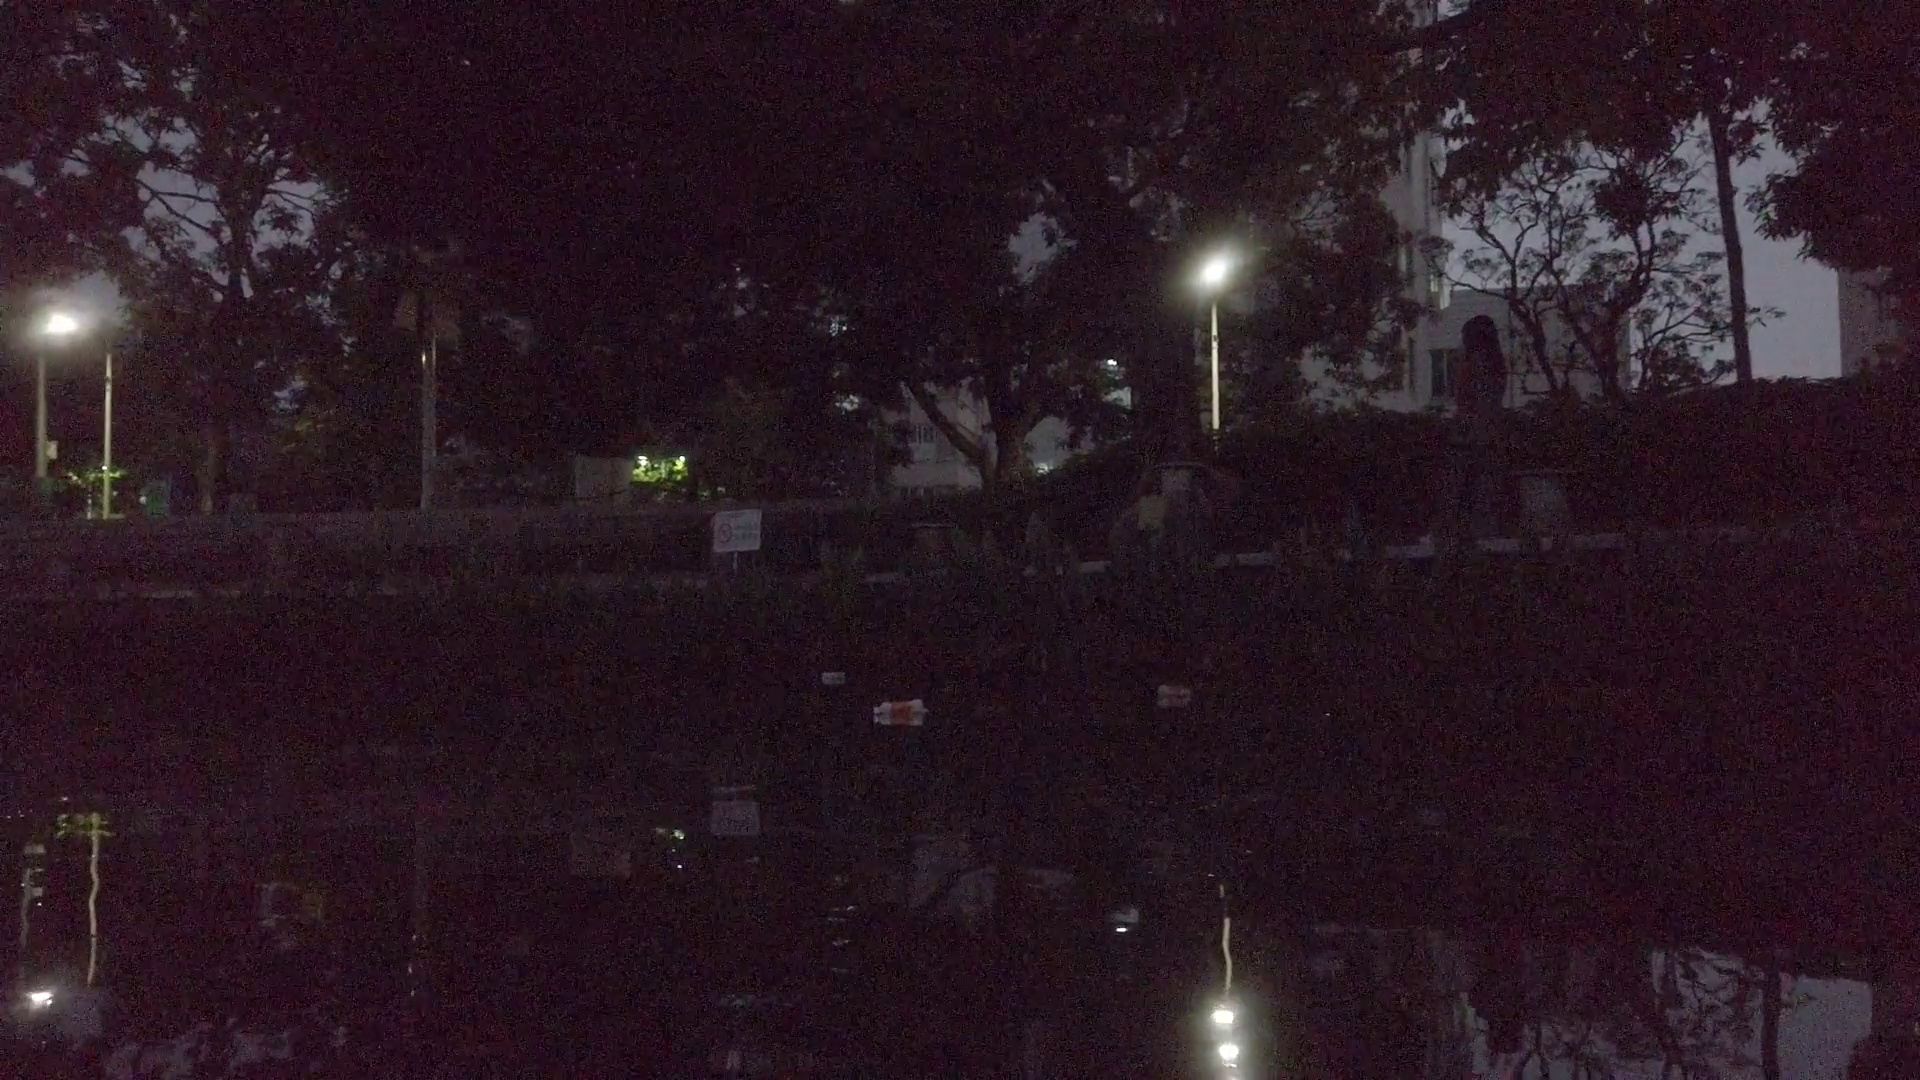bottle: (869, 696, 922, 715), (1158, 684, 1191, 699)
carton: (822, 669, 840, 682)
